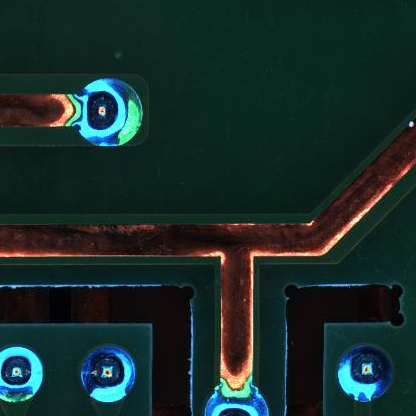spot: (75, 78, 146, 149), (334, 341, 400, 401), (78, 343, 141, 401), (1, 345, 47, 404)
